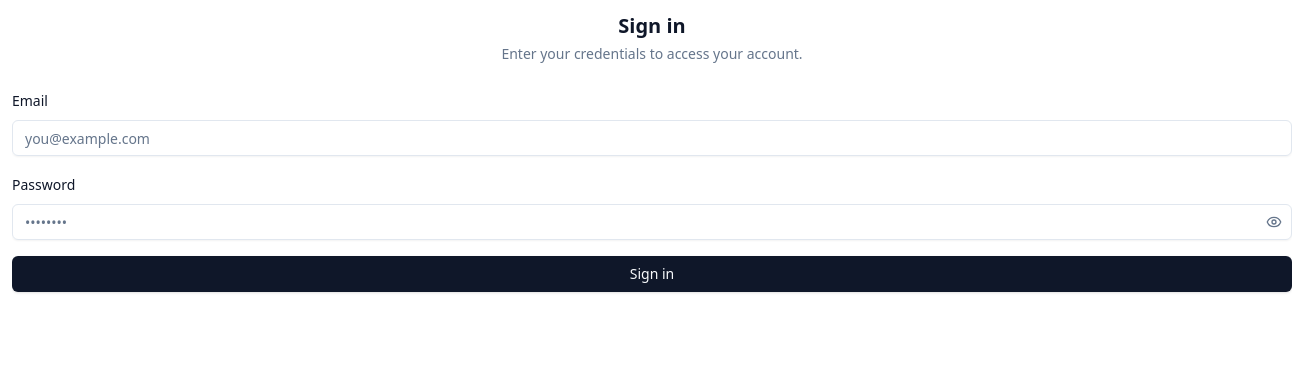
Test: LoginForm › shows a friendly message when the backend rejects the credentials
In the field labelled "Email": {"x": 652, "y": 138} [12,120,1292,156], type "user@example.com"
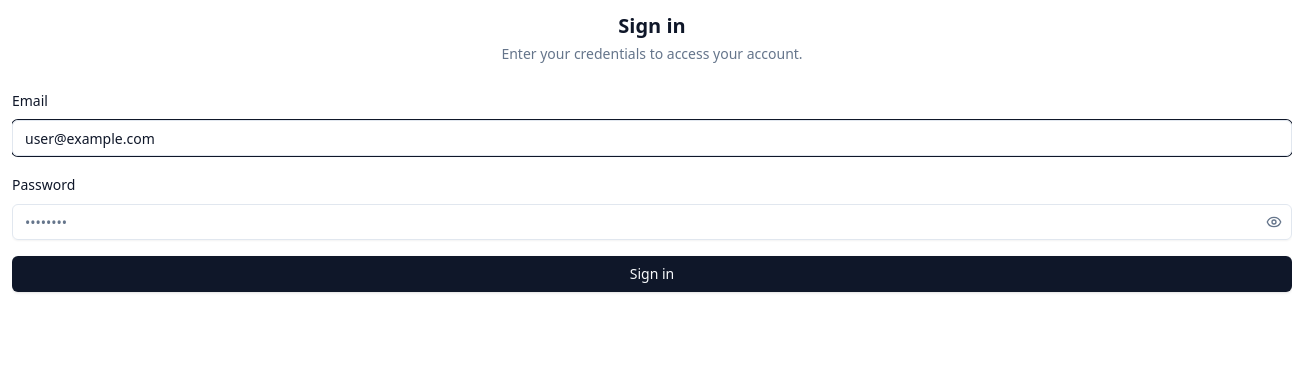
In the password field labelled "Password": {"x": 652, "y": 222} [12,204,1292,240], type "wrong-password"
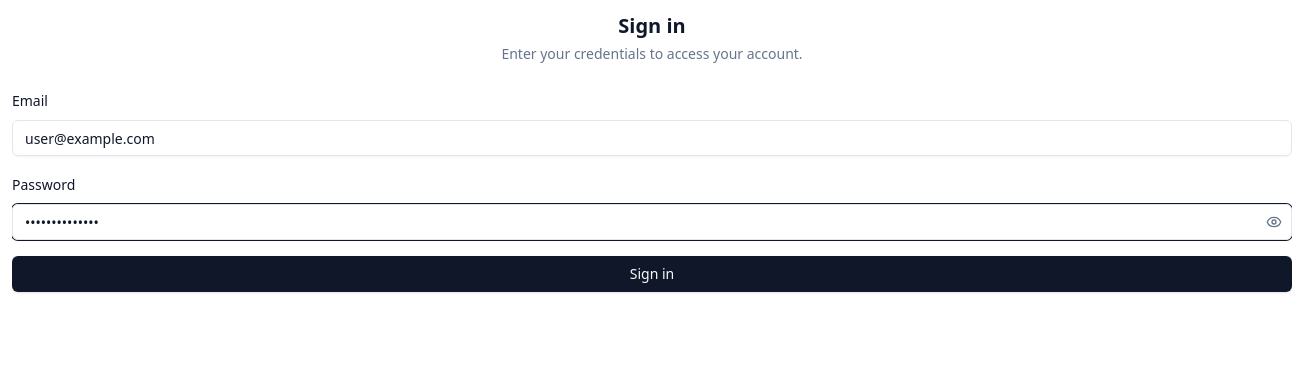
Click the button "Sign in": {"x": 652, "y": 274} [12,256,1292,292]
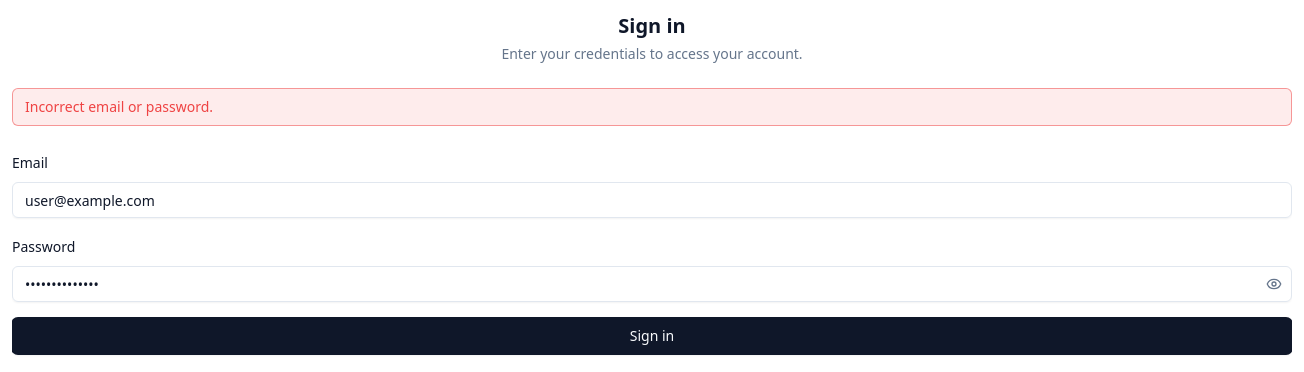
Expected: the message shows "Incorrect email or password", [25,97,213,116]
